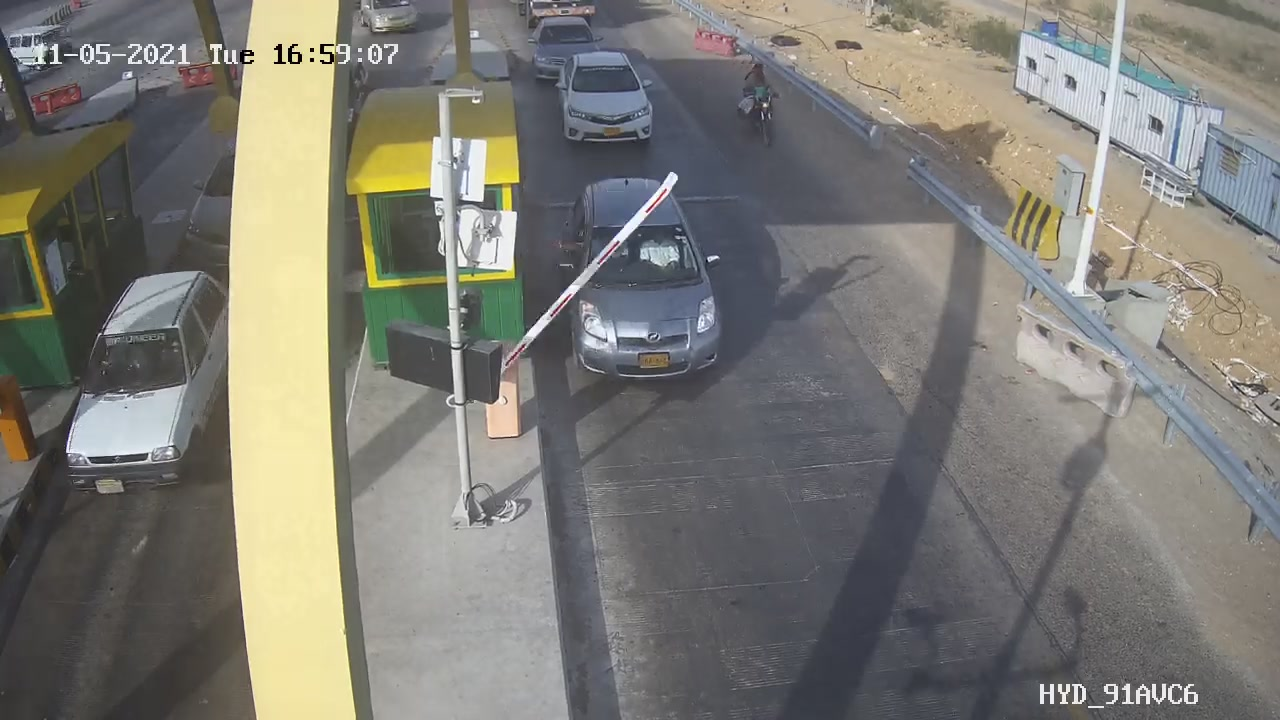F1: (547, 164, 747, 400), (540, 36, 676, 160)
